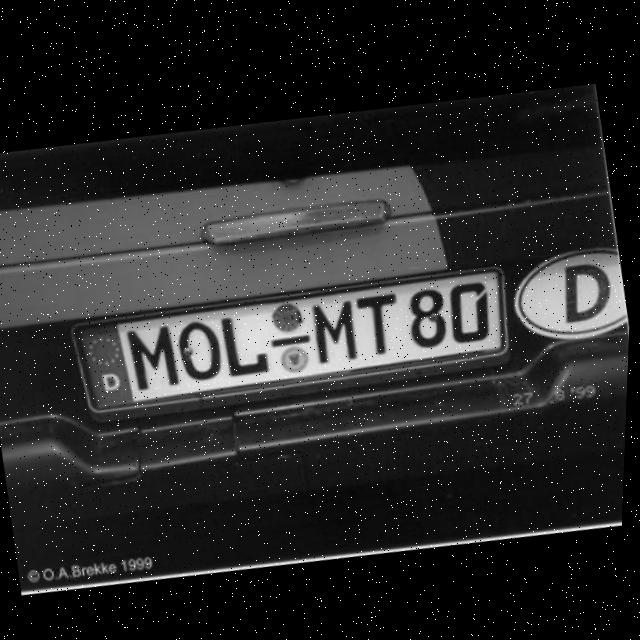license-plates: (74, 270, 509, 414)
